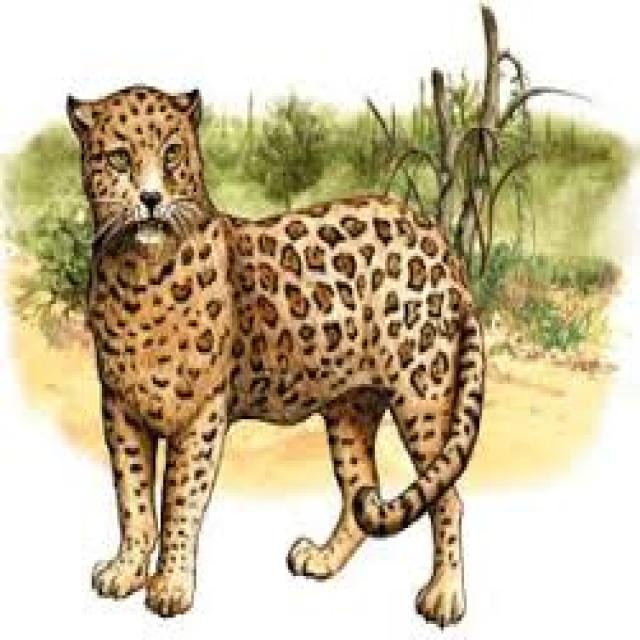Jaguar: (61, 83, 487, 605)
